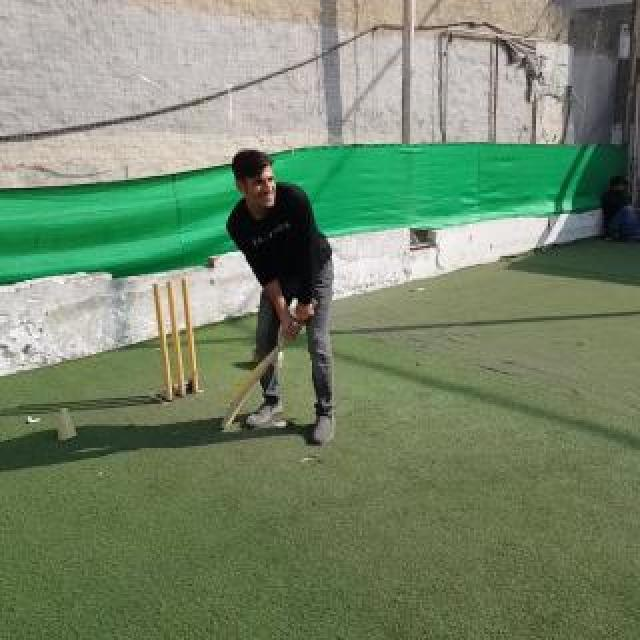bat: (222, 298, 318, 430)
